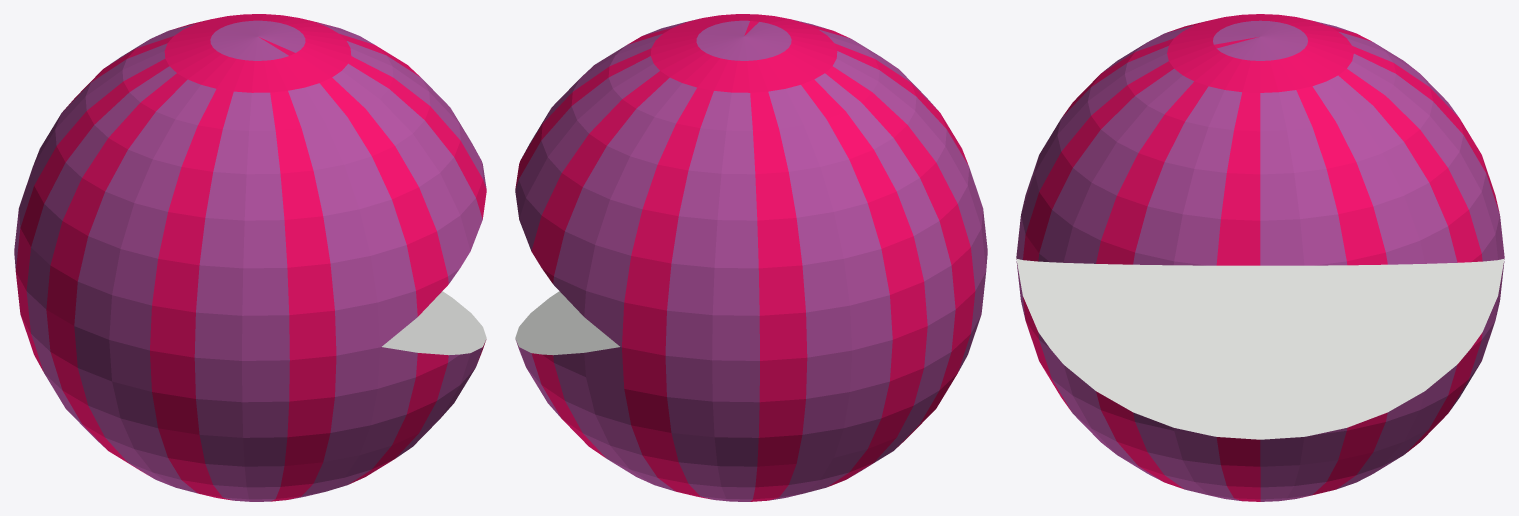
The model's file is Player_ParaUnity.fbx.
The picture shows the model from 3 angles, left to right: view 1: azimuth 30°, elevation 25°; view 2: azimuth 150°, elevation 25°; view 3: azimuth 270°, elevation 25°; orthographic projection.
Parts seen in each view (by area): view 1: Pacman.001; view 2: Pacman.001; view 3: Pacman.001.
Boxes of the visible parts, x1=… form: Pacman.001: x1=14, y1=14, x2=486, y2=501; Pacman.001: x1=515, y1=14, x2=987, y2=501; Pacman.001: x1=1016, y1=14, x2=1504, y2=501.
Size of the model in its own units: 192 by 200 by 200.
Materials: 1 (1 with a texture image).
